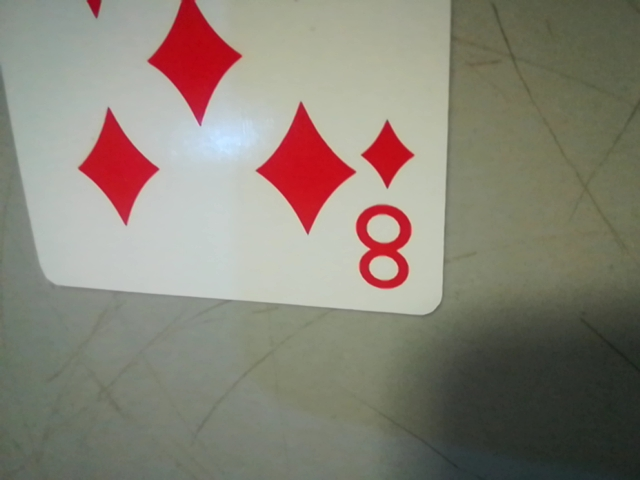fk 8: (343, 110, 430, 304)
